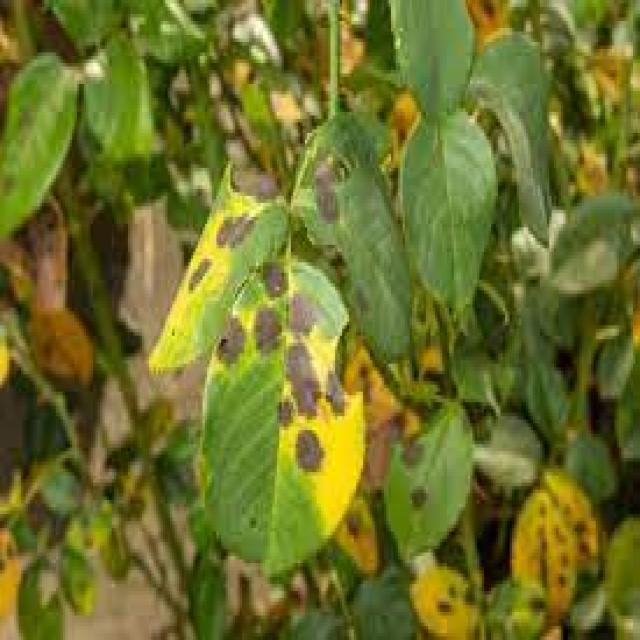black-spot: (236, 283, 355, 506)
